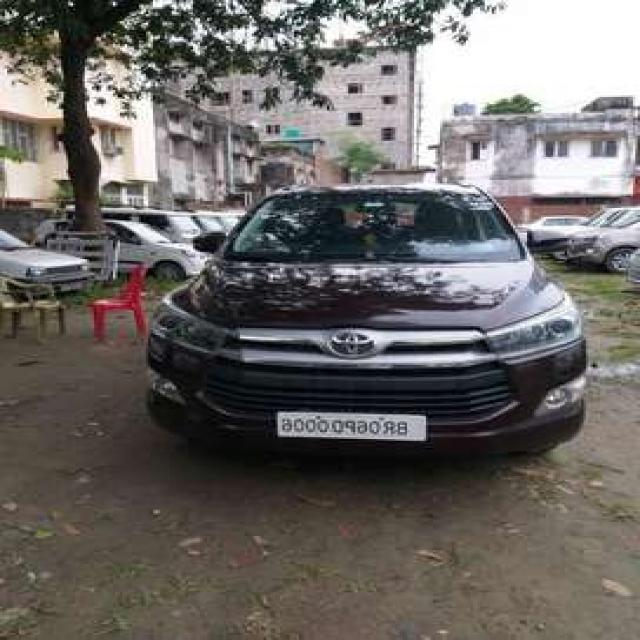license_plate: (275, 412, 430, 440)
